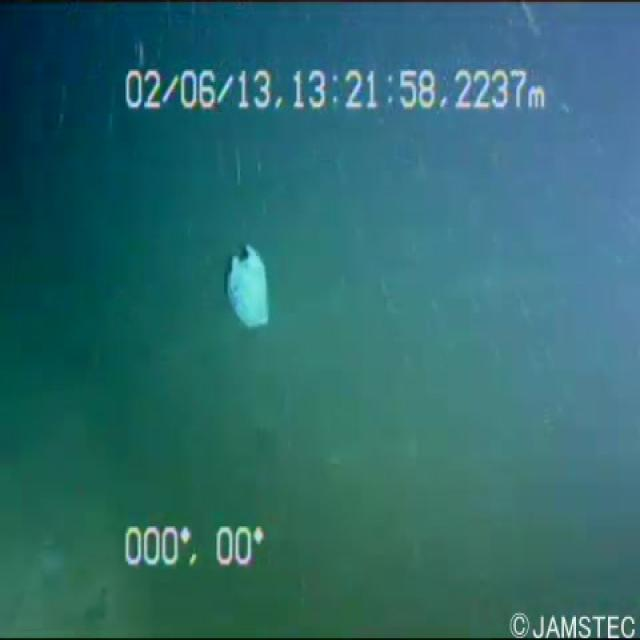plastic: (204, 228, 289, 356)
